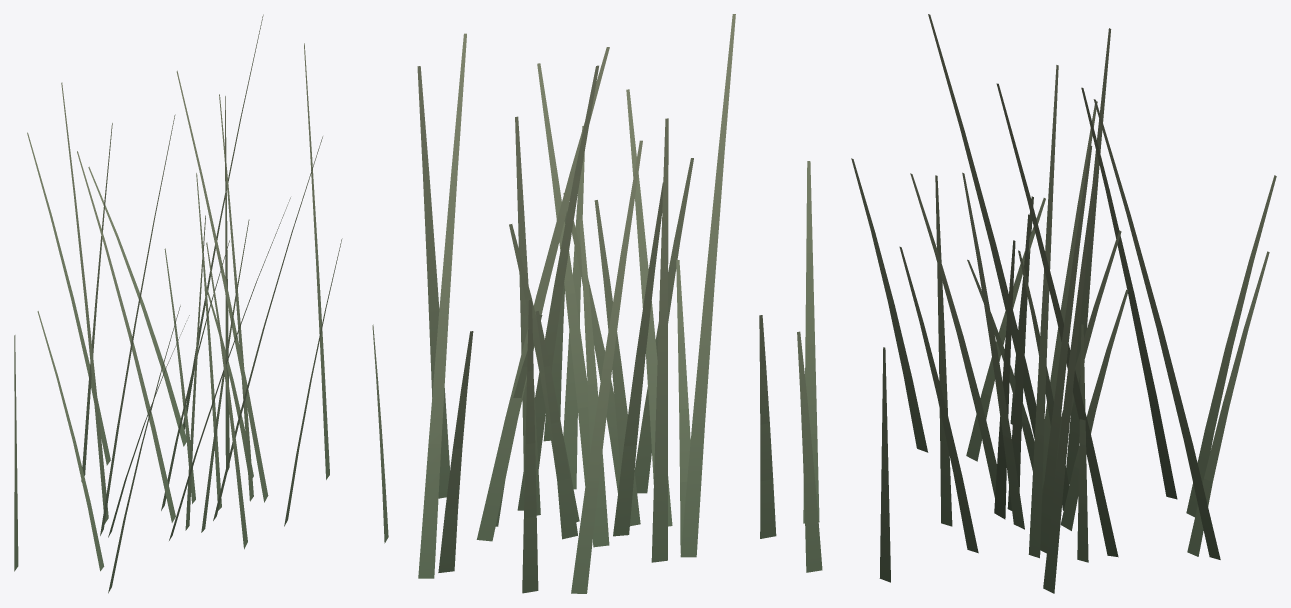
Rendered from seagrass_clump.glb.
3 renders of one model, left to right at view 1: azimuth 30°, elevation 25°; view 2: azimuth 150°, elevation 25°; view 3: azimuth 270°, elevation 25°, orthographic. The views are drawn at different scales.
Parts seen in each view (by area): view 1: seagrass_clump; view 2: seagrass_clump; view 3: seagrass_clump.
Boxes of the visible parts, box(x1,y1,x2,y2) form: seagrass_clump: box(14, 14, 388, 593); seagrass_clump: box(417, 14, 822, 593); seagrass_clump: box(851, 14, 1276, 593).
Bounding box in the file's own units: 0.6011 × 0.782 × 0.6382.
